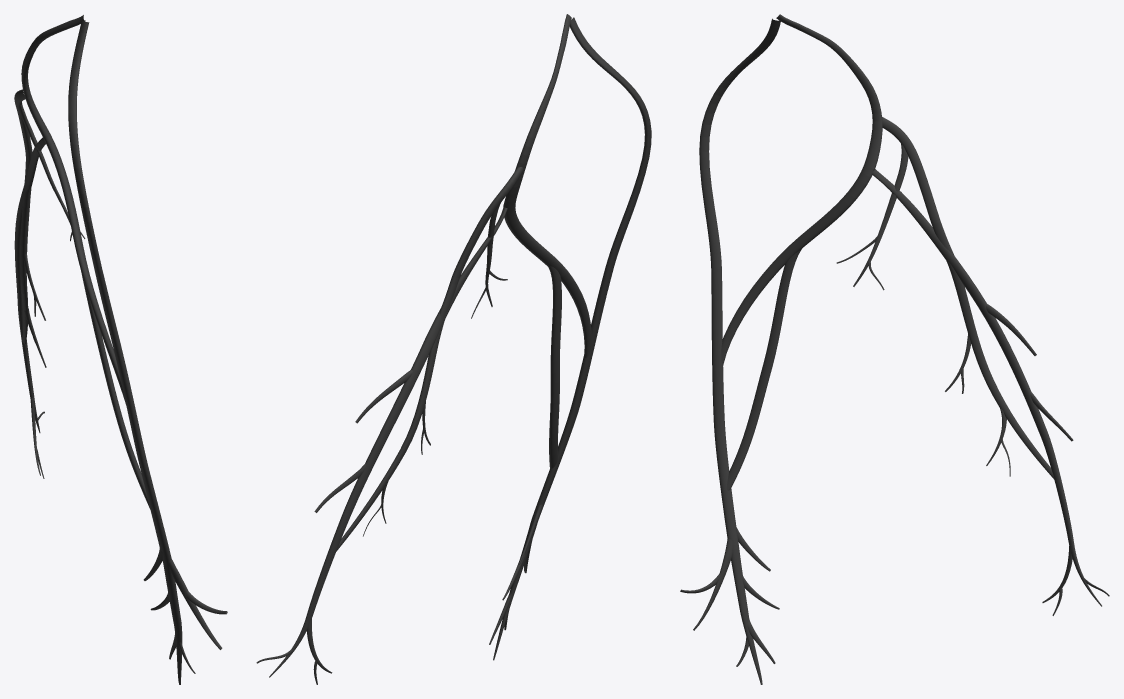
File: N_7_facial_buccal_branches.glb
3 views of the same model, side by side, from view 1: azimuth 30°, elevation 25°; view 2: azimuth 150°, elevation 25°; view 3: azimuth 270°, elevation 25° (orthographic). The views are drawn at different scales.
Visible parts, largest first — view 1: N_7_facial_buccal_branches; view 2: N_7_facial_buccal_branches; view 3: N_7_facial_buccal_branches.
Boxes of the visible parts, bbox=[...] form: N_7_facial_buccal_branches: bbox=[14, 15, 227, 684]; N_7_facial_buccal_branches: bbox=[256, 14, 651, 684]; N_7_facial_buccal_branches: bbox=[680, 14, 1109, 684].
Bounding box in the file's own units: 0.0205 × 0.0727 × 0.0448.
Materials: 1 (1 with a texture image).
